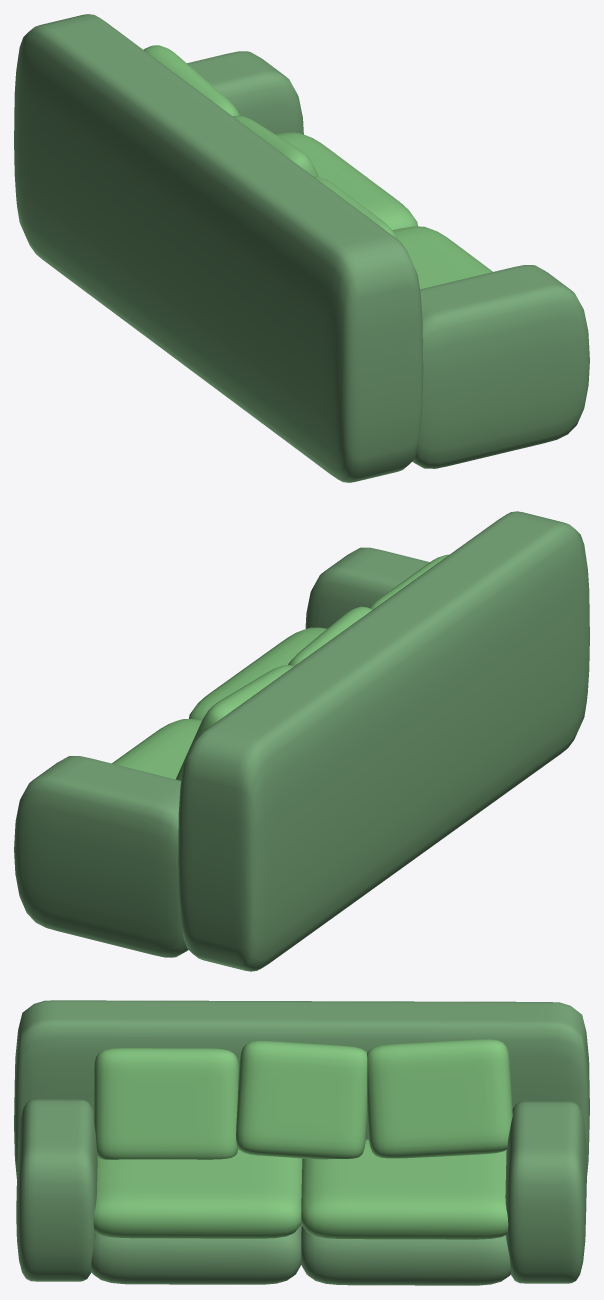
File: cartoon_sofa.glb
3 renders of one model, top to bottom at view 1: azimuth 30°, elevation 25°; view 2: azimuth 150°, elevation 25°; view 3: azimuth 270°, elevation 25°, orthographic. The views are drawn at different scales.
Visible parts, largest first — view 1: Cube.025, Cube.024, Cube.023, Cube.021, Cube.022, Cube.026, Cube.028, Cube.027; view 2: Cube.025, Cube.023, Cube.024, Cube.021, Cube.022, Cube.026, Cube.028; view 3: Cube.025, Cube.021, Cube.022, Cube.026, Cube.027, Cube.028, Cube.023, Cube.024, Cube.020, Cube.019.
Part boxes in pixels (box(x1,y1,x2,y2)): Cube.025: box(14, 14, 423, 482); Cube.024: box(412, 265, 589, 468); Cube.023: box(187, 51, 303, 134); Cube.021: box(276, 132, 417, 229); Cube.022: box(393, 226, 492, 289); Cube.026: box(144, 45, 239, 116); Cube.028: box(233, 115, 318, 176); Cube.027: box(314, 176, 398, 240); Cube.025: box(178, 511, 589, 971); Cube.023: box(14, 756, 188, 957); Cube.024: box(305, 547, 429, 628); Cube.021: box(112, 719, 201, 779); Cube.022: box(189, 627, 326, 720); Cube.026: box(175, 665, 293, 780); Cube.028: box(288, 606, 372, 665); Cube.025: box(14, 1000, 589, 1178); Cube.021: box(301, 1139, 508, 1239); Cube.022: box(93, 1149, 302, 1238); Cube.026: box(367, 1039, 512, 1158); Cube.027: box(93, 1048, 238, 1159); Cube.028: box(236, 1041, 367, 1159); Cube.023: box(505, 1101, 586, 1283); Cube.024: box(16, 1099, 97, 1281); Cube.020: box(91, 1225, 301, 1284); Cube.019: box(301, 1226, 511, 1285).
Bounding box in the file's own units: 2.86 × 2.48 × 6.58.
